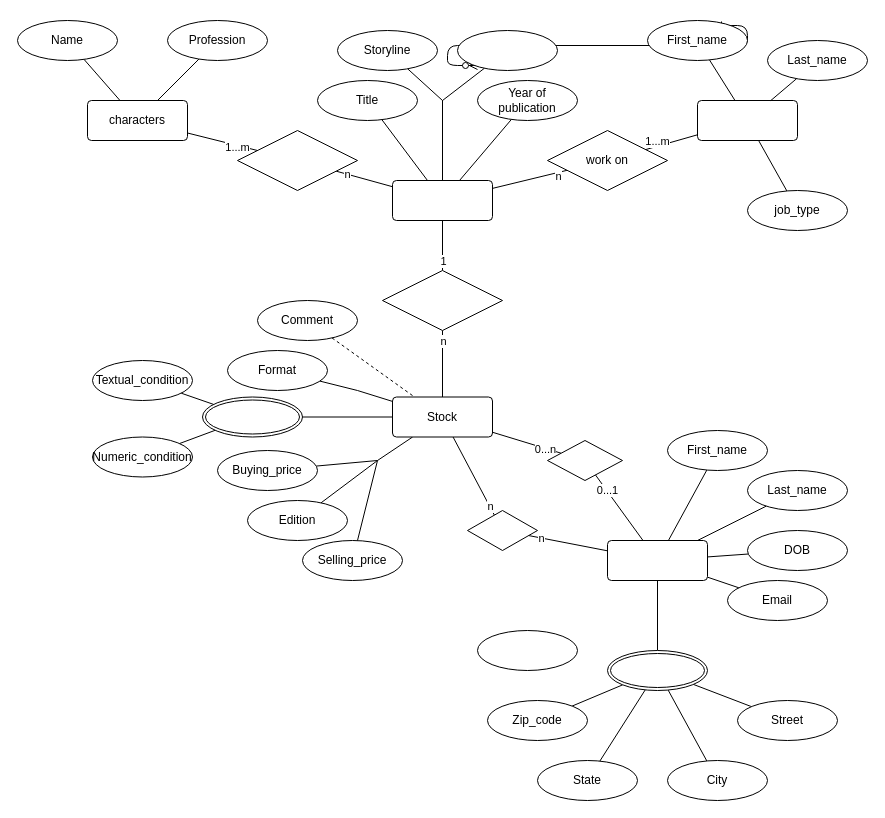
Some shapes in this 885 by 818 pixel diagram are drawn without their labels. Each missing label, with the centre of its shape:
"Address" belongs at (x=657, y=670).
"appear in" belongs at (x=297, y=160).
"buy" belongs at (x=584, y=460).
"Collectables" belongs at (x=442, y=200).
"condition" belongs at (x=252, y=416).
"consists of" belongs at (x=442, y=300).
"creators" belongs at (x=747, y=120).
"Customers" belongs at (x=657, y=560).
"House_number" belongs at (x=527, y=650).
"Publisher" belongs at (x=507, y=50).
"whish" belongs at (x=502, y=530).
